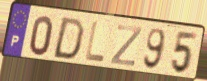0: (27, 13, 55, 58)
5: (170, 29, 199, 75)
9: (142, 28, 167, 71)
D: (51, 16, 86, 61)
L: (83, 20, 106, 64)
Z: (109, 24, 144, 69)
